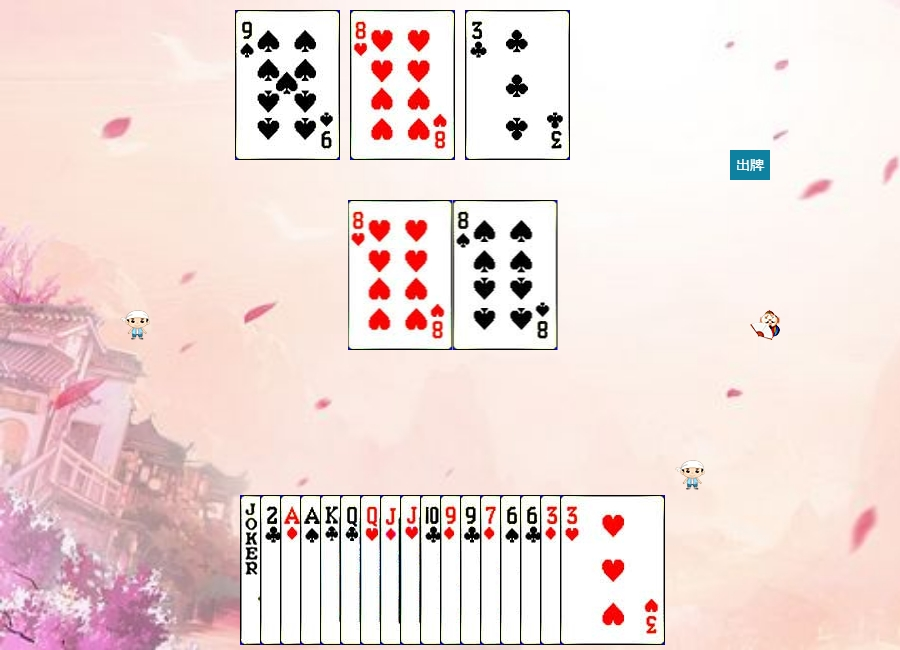10~2: (420, 495, 525, 645)
11~1: (380, 495, 485, 645)
11~3: (400, 495, 505, 645)
12~2: (340, 495, 445, 645)
12~3: (360, 495, 465, 645)
13~2: (320, 495, 425, 645)
14~1: (280, 495, 385, 645)
14~4: (300, 495, 405, 645)
15~2: (260, 495, 365, 645)
17~3: (240, 495, 345, 645)
3~1: (540, 495, 645, 645)
3~2: (465, 10, 570, 160)
3~3: (560, 495, 665, 645)
6~2: (520, 495, 625, 645)
6~4: (500, 495, 605, 645)
7~1: (480, 495, 585, 645)
8~3: (350, 10, 455, 160), (348, 200, 453, 350)
8~4: (453, 200, 558, 350)
9~1: (440, 495, 545, 645)
9~2: (460, 495, 565, 645)
9~4: (235, 10, 340, 160)
